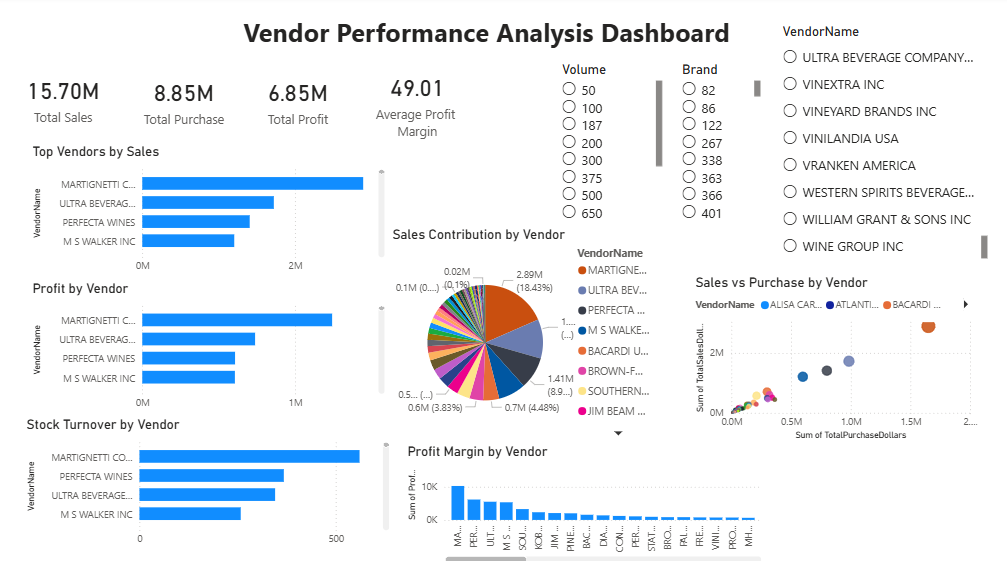

What the dashboard file says about the page in this screenshot:
{"tool":"powerbi","page":{"name":"Page 1","canvas":[1280,720],"ordinal":0},"visuals":[{"type":"card","fields":{"Values":["Sum(vendor_summary_dashboard.TotalSalesDollars)"]},"box":[0,43.5,166.3,172],"z":0},{"type":"card","fields":{"Values":["Sum(vendor_summary_dashboard.TotalPurchaseDollars)"]},"box":[166.3,54.8,138,153.1],"z":1},{"type":"card","fields":{"Values":["Sum(vendor_summary_dashboard.GrossProfit)"]},"box":[304.3,54.8,149.3,153.1],"z":2},{"type":"card","fields":{"Values":["Avg(vendor_summary_dashboard.ProfitMargin)"]},"box":[453.5,43.5,151.2,164.4],"z":3},{"type":"barChart","title":"Top Vendors by Sales","fields":{"Category":["vendor_summary_dashboard.VendorName"],"Y":["Sum(vendor_summary_dashboard.TotalSalesDollars)"]},"box":[39.7,187.1,453.5,172],"z":4},{"type":"barChart","title":"Profit by Vendor","fields":{"Category":["vendor_summary_dashboard.VendorName"],"Y":["Sum(vendor_summary_dashboard.GrossProfit)"]},"box":[39.7,359.1,453.5,172],"z":5},{"type":"barChart","title":"Stock Turnover by Vendor","fields":{"Category":["vendor_summary_dashboard.VendorName"],"Y":["Sum(vendor_summary_dashboard.StockTurnover)"]},"box":[32.1,531,466.8,172],"z":6},{"type":"scatterChart","title":"Sales vs Purchase by Vendor","fields":{"X":["Sum(vendor_summary_dashboard.TotalPurchaseDollars)"],"Y":["Sum(vendor_summary_dashboard.TotalSalesDollars)"],"Series":["vendor_summary_dashboard.VendorName"],"Size":["Sum(vendor_summary_dashboard.GrossProfit)"]},"box":[875,351.5,364.7,213.5],"z":7},{"type":"listSlicer","fields":{"Values":["vendor_summary_dashboard.VendorName"]},"box":[984.6,35.9,268.3,306.1],"z":8},{"type":"listSlicer","fields":{"Values":["vendor_summary_dashboard.Brand"]},"box":[858,83.2,109.6,206],"z":9},{"type":"listSlicer","fields":{"Values":["vendor_summary_dashboard.Volume"]},"box":[706.8,83.2,136.1,206],"z":10},{"type":"columnChart","title":"Profit Margin by Vendor","fields":{"Category":["vendor_summary_dashboard.VendorName"],"Y":["Sum(vendor_summary_dashboard.ProfitMargin)"]},"box":[512.1,565,455.4,155],"z":11},{"type":"pieChart","title":"Sales Contribution by Vendor","fields":{"Category":["vendor_summary_dashboard.VendorName"],"Y":["Sum(vendor_summary_dashboard.TotalSalesDollars)"]},"box":[493.2,291,343.9,274],"z":12},{"type":"textbox","box":[266.5,18.9,701.1,66.1],"z":13}]}

Visuals, with their boxes in screenshot pixels (x1, y1, x2, y2), scaled from the page's 1280x720 canvas onto the 1007x561 screenshot:
card - Sum(vendor_summary_dashboard.TotalSalesDollars): <region>0, 34, 131, 168</region>
card - Sum(vendor_summary_dashboard.TotalPurchaseDollars): <region>131, 43, 239, 162</region>
card - Sum(vendor_summary_dashboard.GrossProfit): <region>239, 43, 357, 162</region>
card - Avg(vendor_summary_dashboard.ProfitMargin): <region>357, 34, 476, 162</region>
"Top Vendors by Sales" barChart: <region>31, 146, 388, 280</region>
"Profit by Vendor" barChart: <region>31, 280, 388, 414</region>
"Stock Turnover by Vendor" barChart: <region>25, 414, 392, 548</region>
"Sales vs Purchase by Vendor" scatterChart: <region>688, 274, 975, 440</region>
listSlicer - vendor_summary_dashboard.VendorName: <region>775, 28, 986, 266</region>
listSlicer - vendor_summary_dashboard.Brand: <region>675, 65, 761, 225</region>
listSlicer - vendor_summary_dashboard.Volume: <region>556, 65, 663, 225</region>
"Profit Margin by Vendor" columnChart: <region>403, 440, 761, 560</region>
"Sales Contribution by Vendor" pieChart: <region>388, 227, 659, 440</region>
textbox: <region>210, 15, 761, 66</region>
